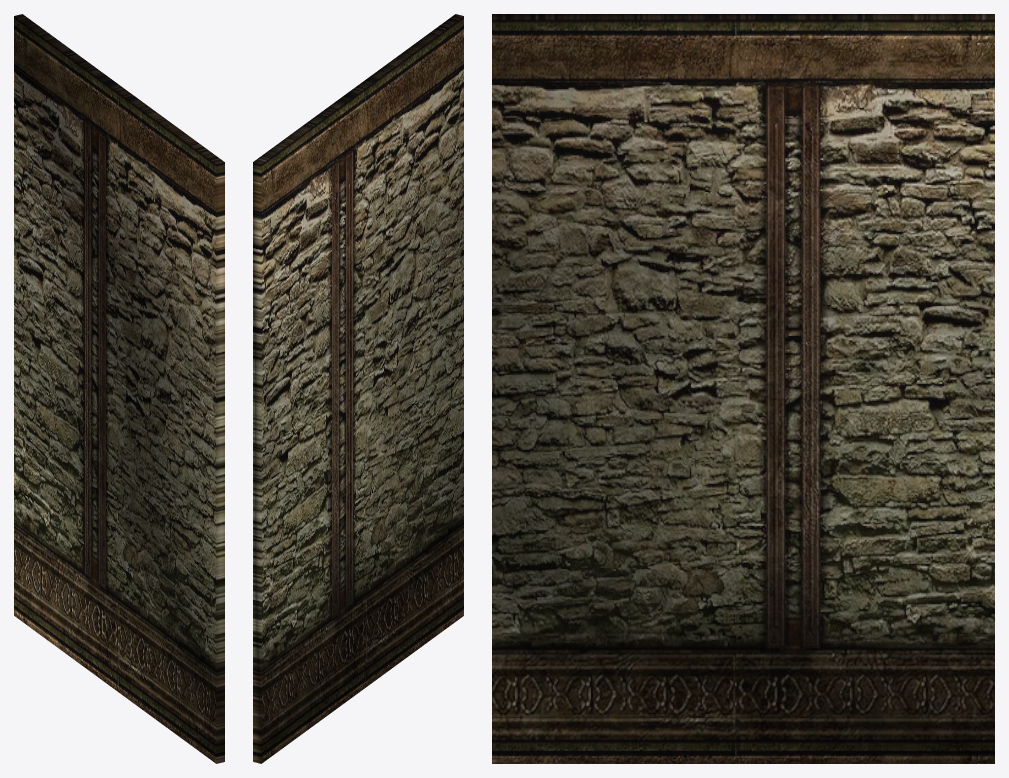
Rendered from NW_CITY_HIDDENDOOR_01.glb.
3 renders of one model, left to right at view 1: azimuth 30°, elevation 25°; view 2: azimuth 150°, elevation 25°; view 3: azimuth 270°, elevation 25°, orthographic. The views are drawn at different scales.
Visible parts, largest first — view 1: Mesh; view 2: Mesh; view 3: Mesh.
Part boxes in pixels (<box>): Mesh: <box>14,14,224,763</box>; Mesh: <box>253,14,463,763</box>; Mesh: <box>492,14,994,763</box>.
Size of the model in its own units: 0.0537 by 3.61 by 2.21.
1 material, 1 textured.
